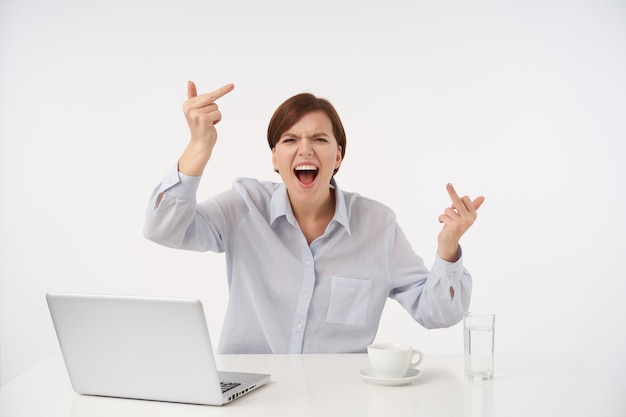insulting_gesture: (175, 76, 239, 139), (435, 181, 488, 243)
